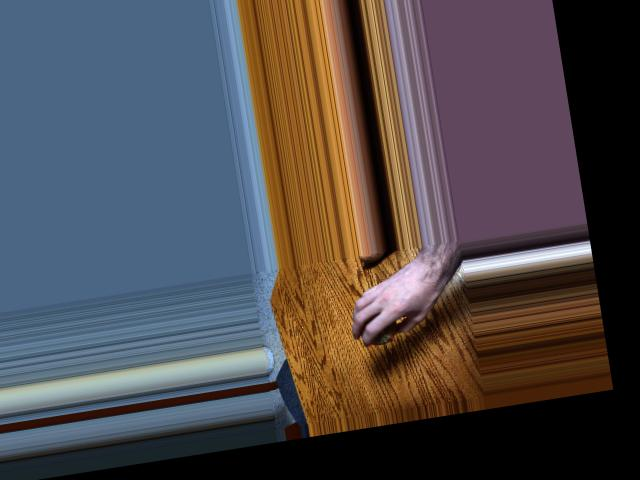onion: (353, 306, 402, 349)
